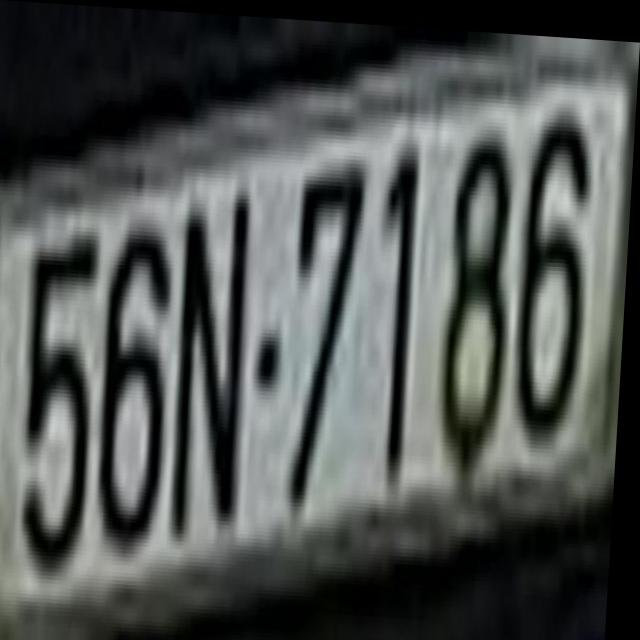1: (374, 141, 428, 488)
5: (21, 219, 104, 576)
6: (516, 113, 596, 477), (99, 216, 178, 564)
7: (286, 163, 369, 509)
8: (440, 137, 518, 501)
N: (171, 169, 256, 557)
